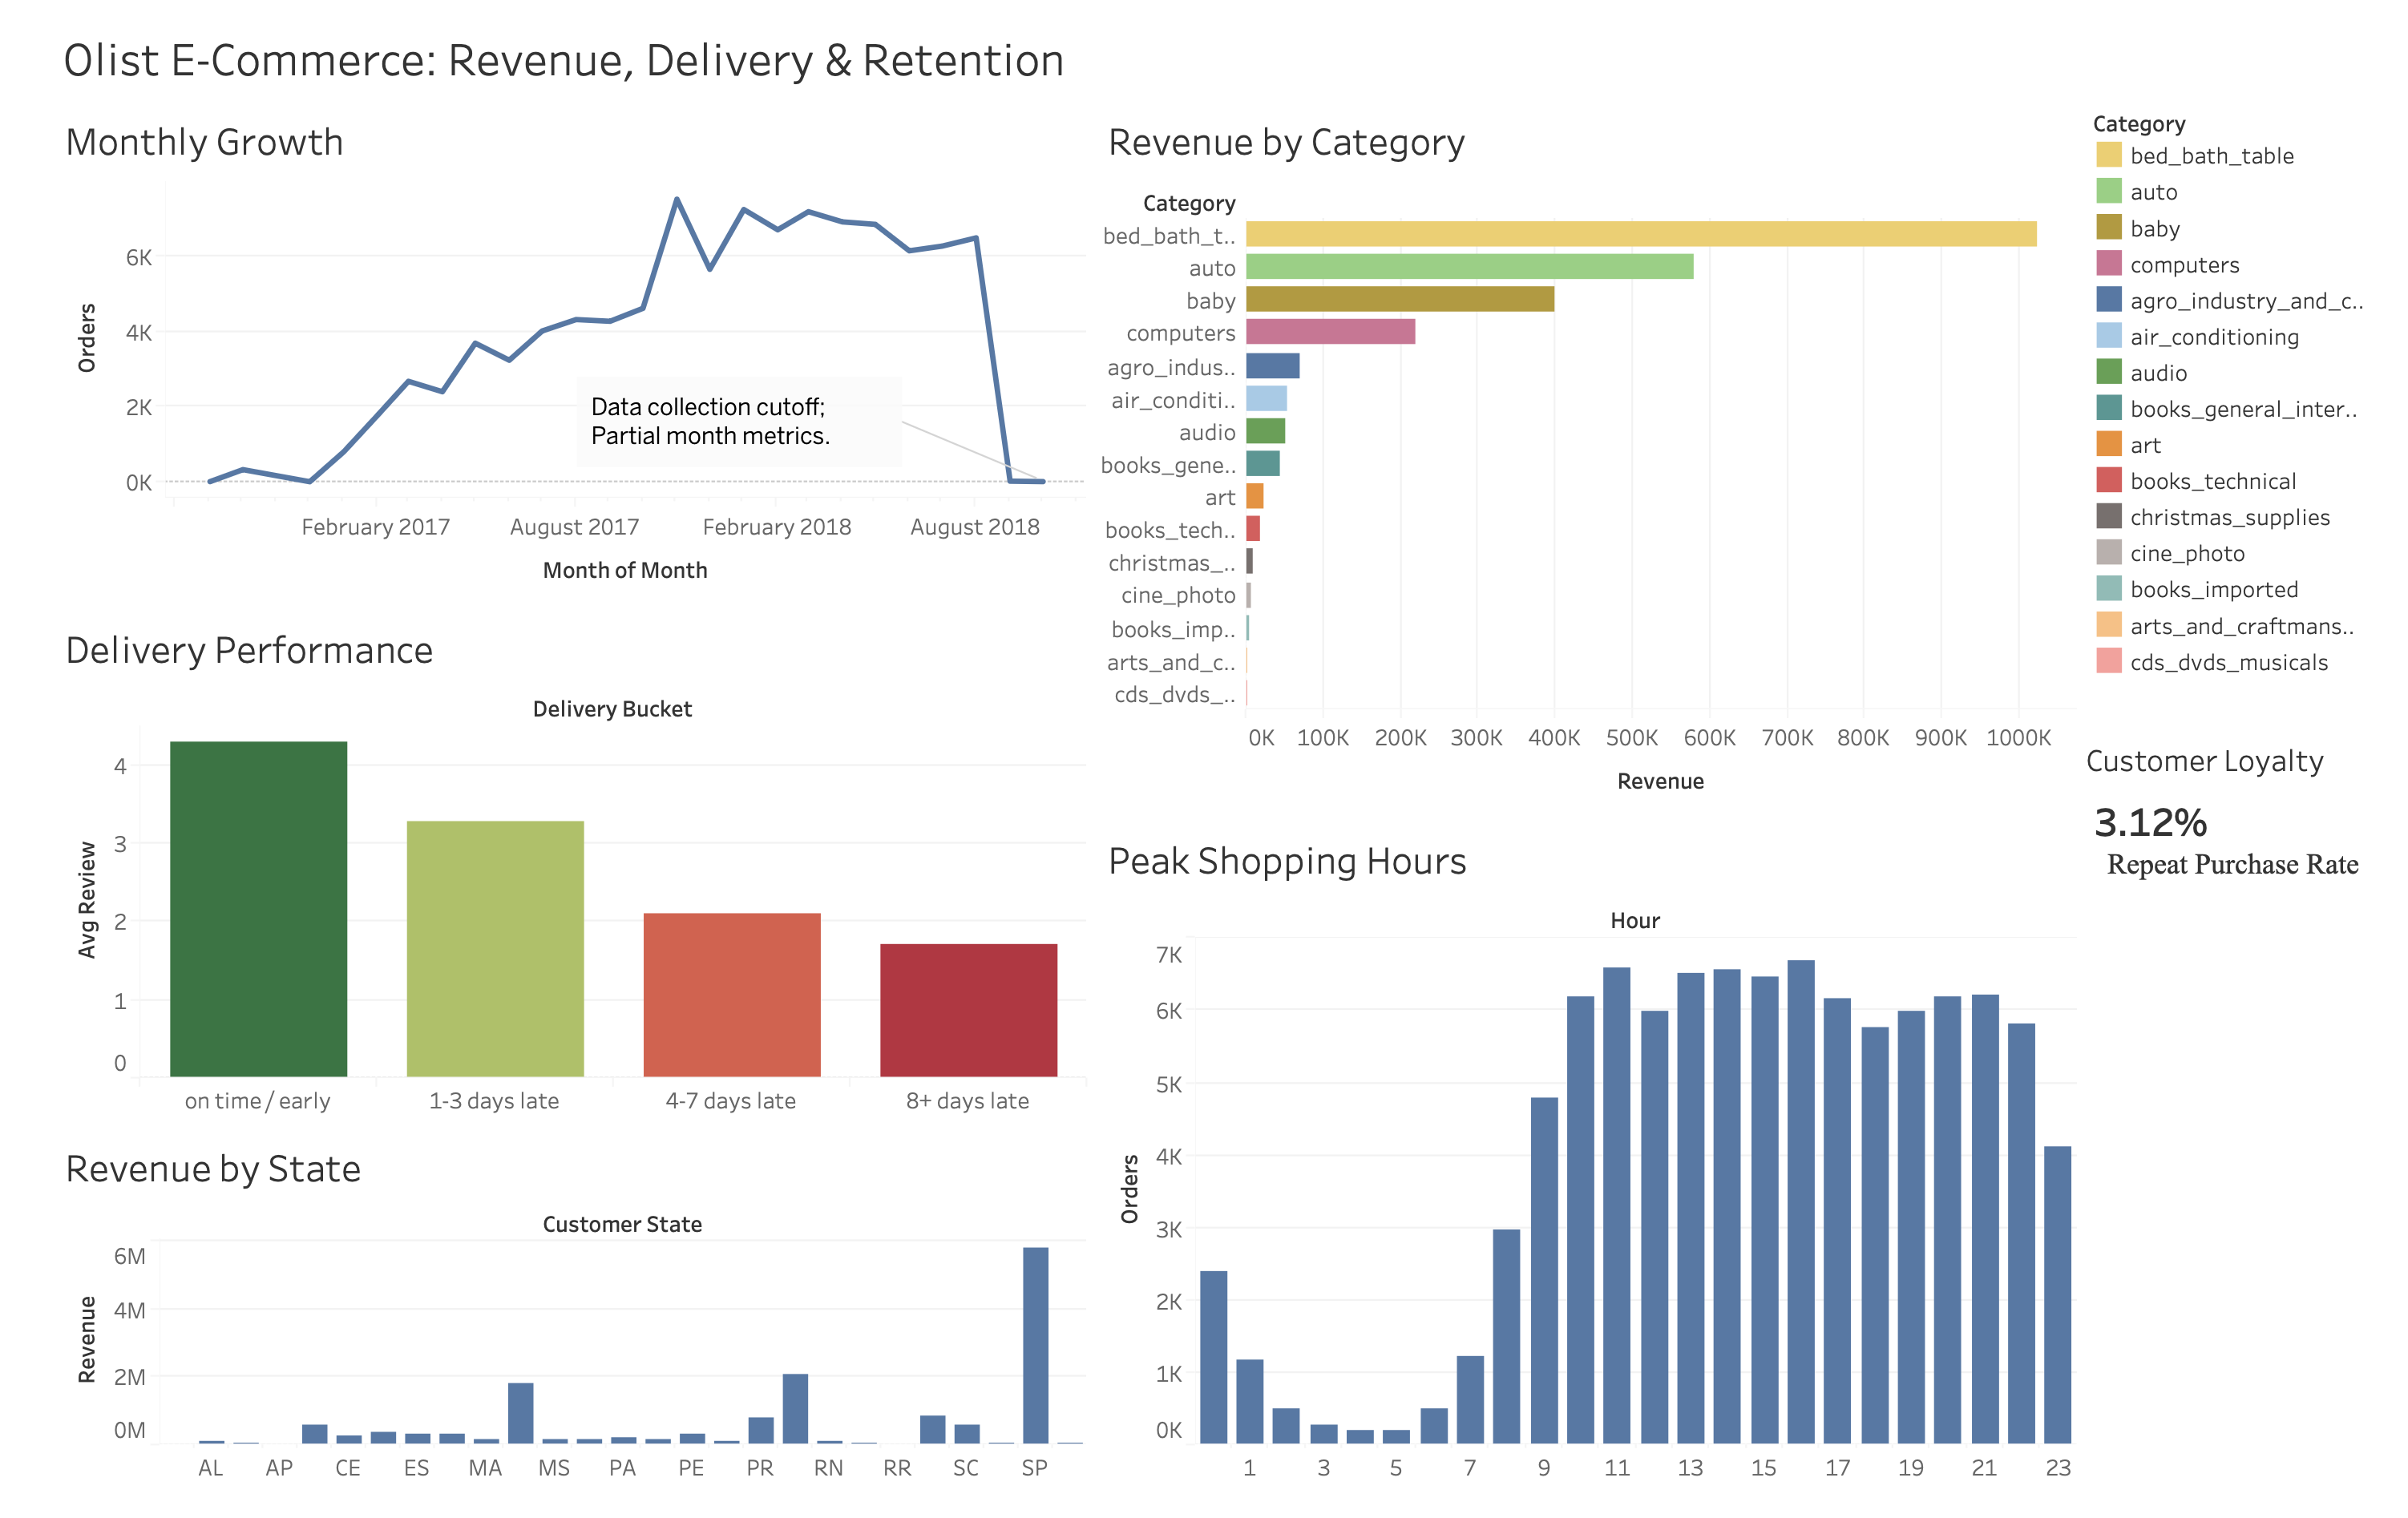

The dashboard page shown, as its layout file describes it:
{"tool":"tableau","page":{"name":"Olist E-Commerce: Revenue, Delivery & Retention","canvas":[1000,1000],"units":"permille","ordinal":0},"visuals":[{"type":"title","box":[6.2,9.7,987.7,50.7]},{"type":"worksheet","title":"Monthly Growth","mark":"Automatic","rows":["orders"],"cols":["month"],"box":[6.2,60.3,443.5,338.6]},{"type":"worksheet","title":"Revenue by Category","mark":"Bar","rows":["category"],"cols":["revenue"],"box":[449.6,60.3,421.2,480.4]},{"type":"legend","title":"Revenue by Category","param":"[federated.1kzqesw1htwfqa1g13aoy1c8sosd].[none:category:nk]","box":[870.9,60.3,123,393.2]},{"type":"worksheet","title":"Delivery Performance","mark":"Automatic","rows":["avg_review"],"cols":["delivery_bucket"],"box":[6.2,398.9,443.5,346.6]},{"type":"legend","title":"Revenue by Category","param":"[federated.1kzqesw1htwfqa1g13aoy1c8sosd].[sum:revenue:qk]","box":[870.9,453.6,123,26.5]},{"type":"worksheet","title":"Customer Loyalty","mark":"Automatic","box":[868.6,481.3,129.1,113.4]},{"type":"worksheet","title":"Peak Shopping Hours","mark":"Automatic","rows":["orders"],"cols":["hour"],"box":[449.6,540.8,421.2,449.6]},{"type":"worksheet","title":"Revenue by State","mark":"Automatic","rows":["revenue"],"cols":["customer_state"],"box":[6.2,745.5,443.5,244.8]}]}

Visuals, with their boxes on the dashboard's canvas, which has no fixed pixel size, in thousandths of its width and height (x1, y1, x2, y2). These are canvas units, not pixel positions in the 2408x1518 screenshot, which may show the page scaled, cropped or inside an application window:
title: <bbox>6, 10, 994, 60</bbox>
"Monthly Growth" worksheet: <bbox>6, 60, 450, 399</bbox>
"Revenue by Category" worksheet (Bar marks): <bbox>450, 60, 871, 541</bbox>
"Revenue by Category" legend: <bbox>871, 60, 994, 454</bbox>
"Delivery Performance" worksheet: <bbox>6, 399, 450, 746</bbox>
"Revenue by Category" legend: <bbox>871, 454, 994, 480</bbox>
"Customer Loyalty" worksheet: <bbox>869, 481, 998, 595</bbox>
"Peak Shopping Hours" worksheet: <bbox>450, 541, 871, 990</bbox>
"Revenue by State" worksheet: <bbox>6, 746, 450, 990</bbox>
